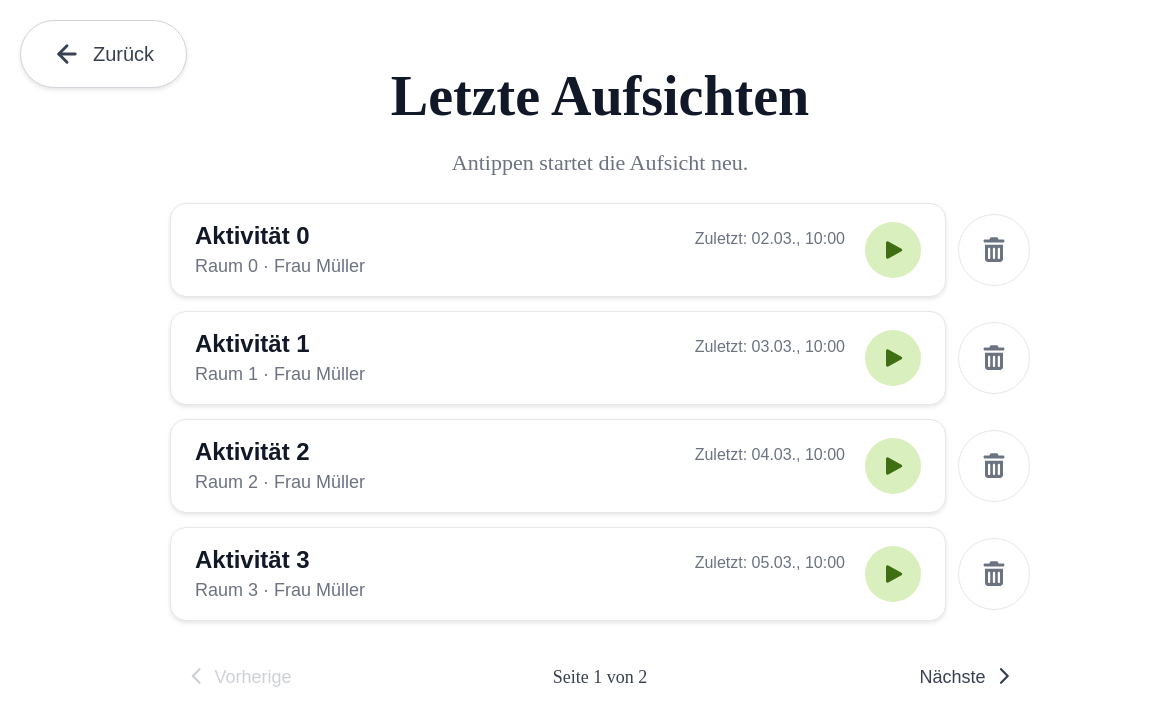
Test case: SessionHistoryPage › paginates the history with four entries per page
This screenshot has width=1152, height=718.
Expected: the text "Aktivität 0" is shown, [195,222,310,250]
Expected: the text "Aktivität 3" is shown, [195,546,310,574]
Click the button "Nächste" at (967, 677), box [904,659,1030,696]
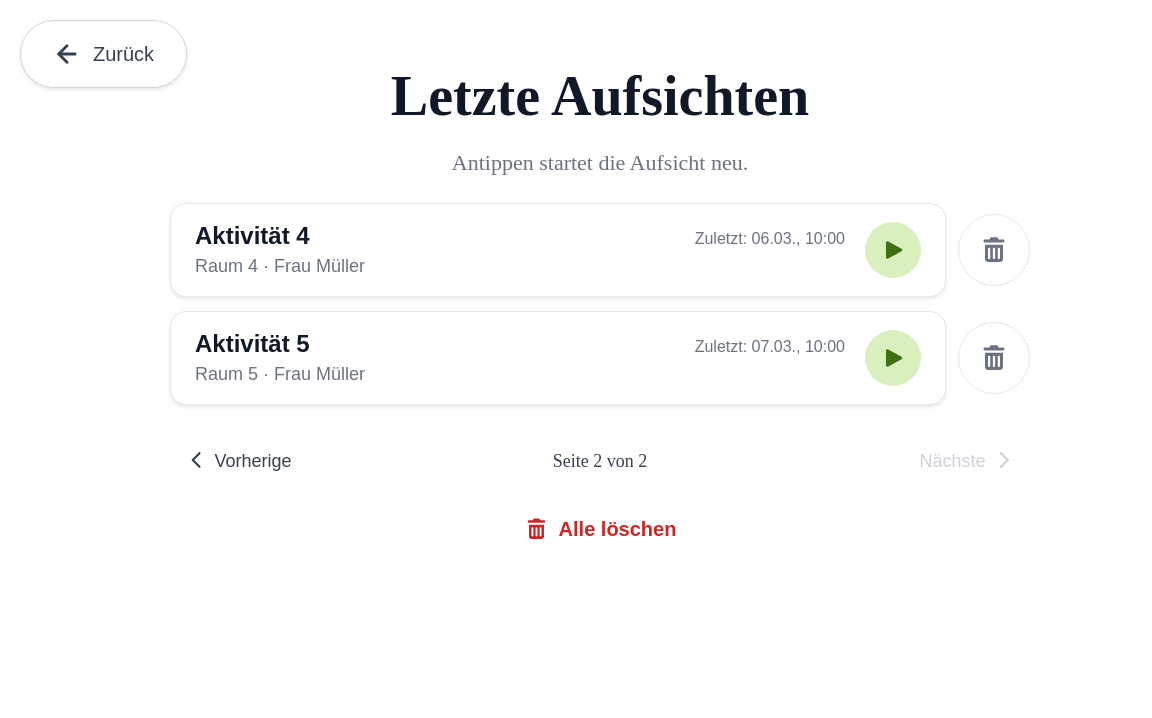
Now the text "Aktivität 4" is shown, box [195,222,310,250]
Now the text "Aktivität 5" is shown, box [195,330,310,358]
Now the button "Aktivität 0" is gone
